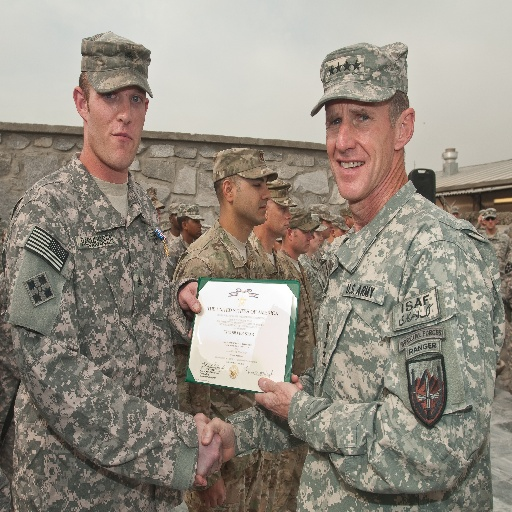hand: (193, 415, 237, 487), (250, 379, 309, 430), (193, 411, 223, 479), (178, 281, 200, 340), (197, 477, 227, 510)
